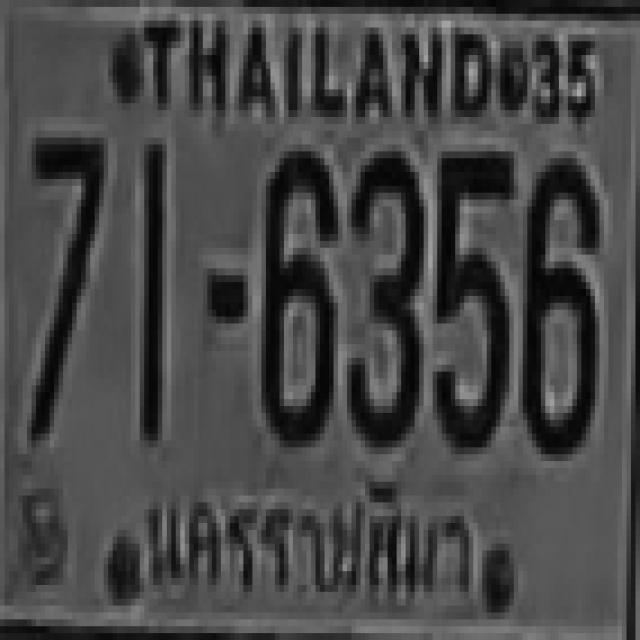1: (138, 137, 164, 440)
3: (343, 144, 419, 440)
5: (430, 144, 507, 448)
6: (518, 152, 595, 448), (257, 144, 333, 440)
7: (29, 130, 102, 434), (34, 131, 101, 378), (34, 131, 101, 337)
NakhonRatchasima: (125, 462, 491, 614)
